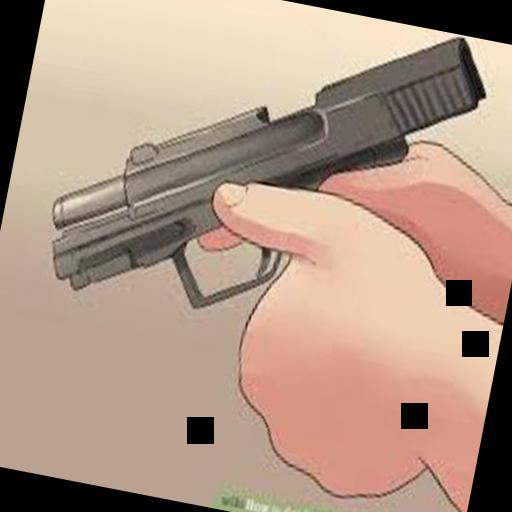Handgun: (26, 0, 496, 346)
